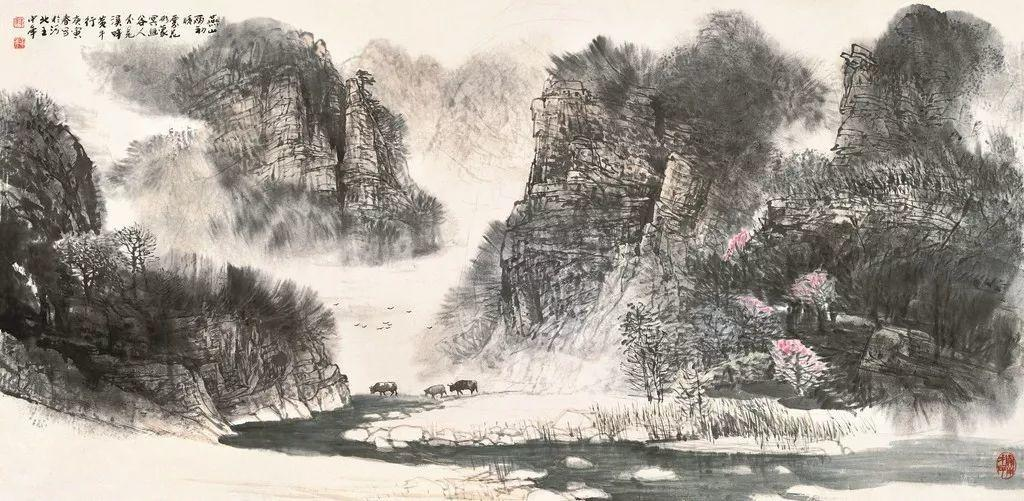cow: (447, 376, 486, 400), (366, 380, 404, 396), (423, 383, 448, 397)
mountain: (169, 17, 446, 259), (750, 165, 1014, 400), (491, 79, 709, 338), (1, 301, 358, 423), (1, 121, 95, 234)
plum: (773, 335, 818, 396), (795, 263, 838, 313)
river: (220, 418, 986, 495)
tree: (54, 224, 168, 301), (607, 295, 668, 387)
